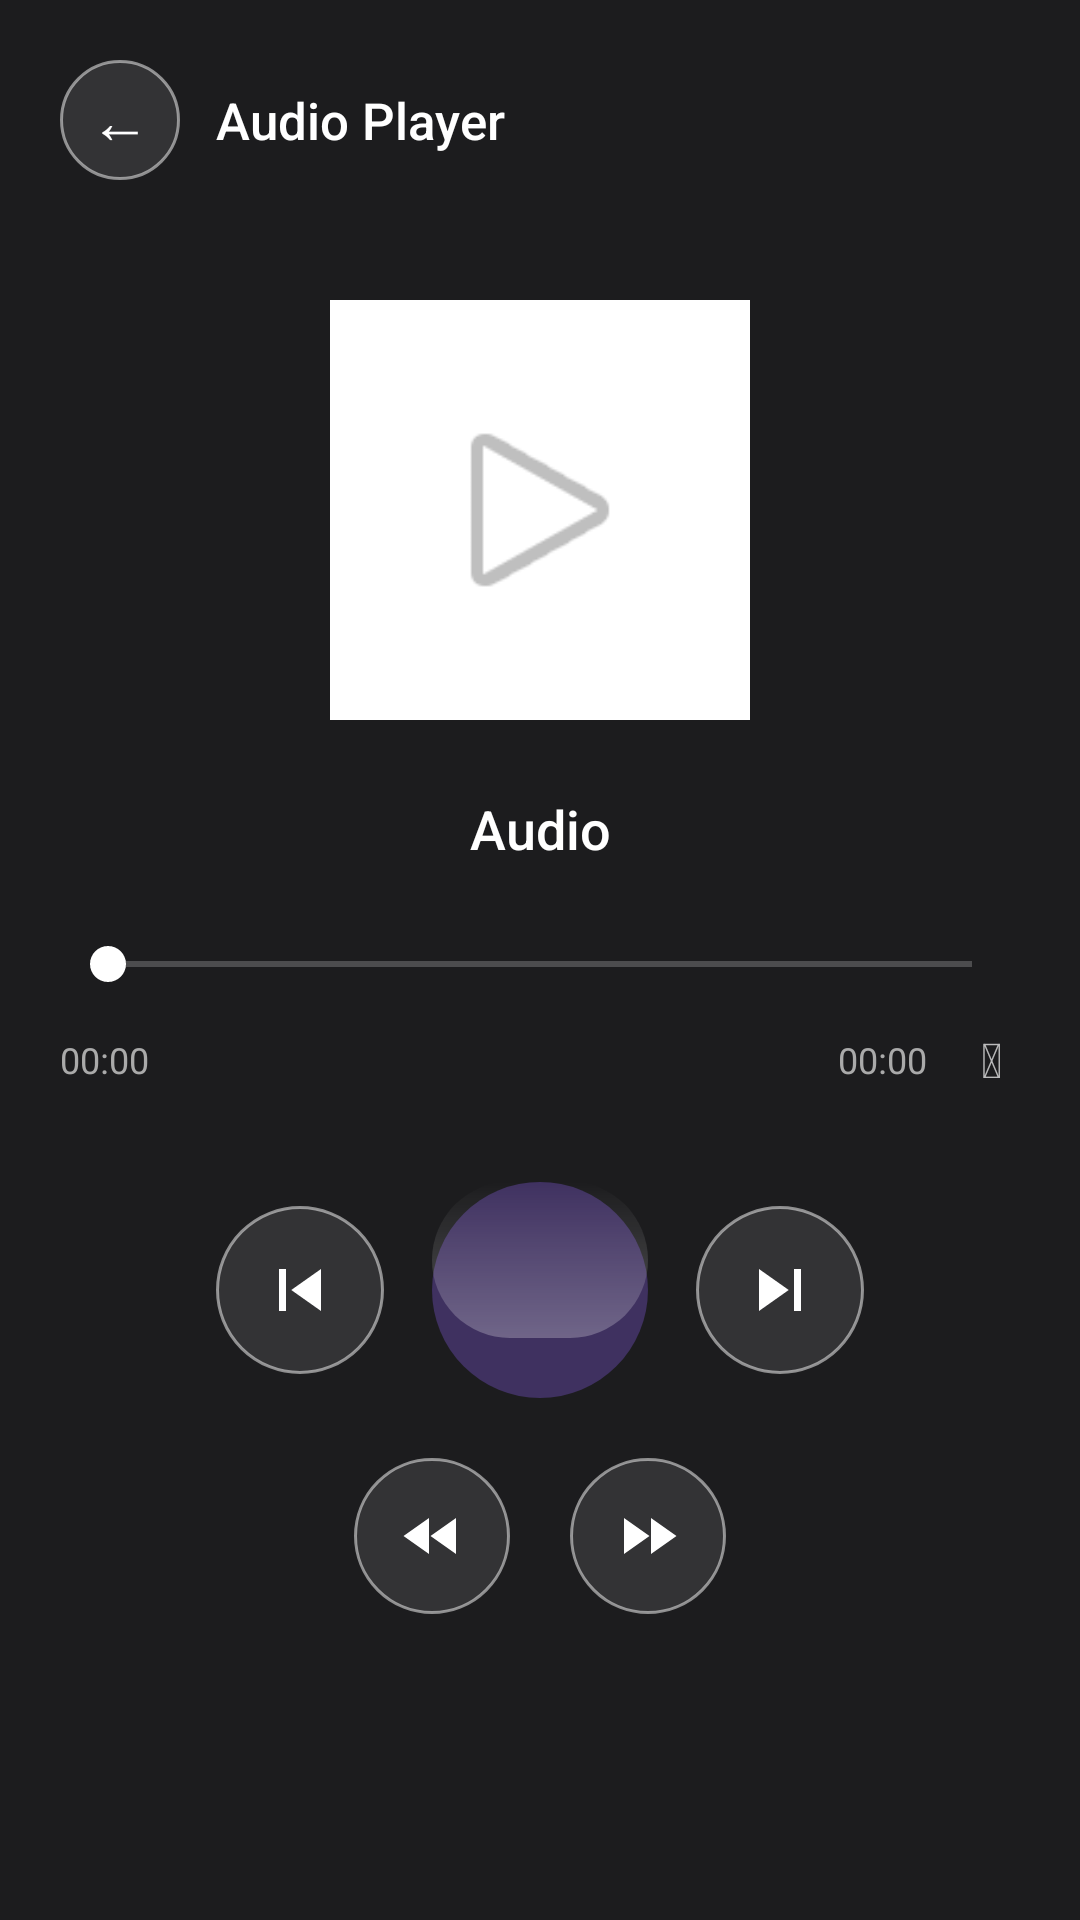

Icons on this 1080px×1920px Android screen, each with the point to tap as (x,y):
forward: (648,1536)
next: (780,1290)
prev: (300,1290)
rewind: (432,1536)
